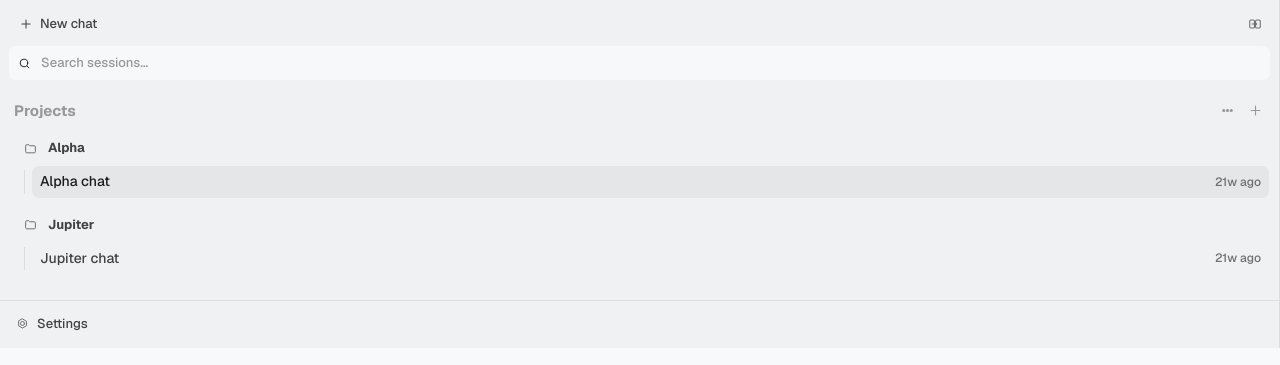
desktop Sidebar workspace grouping › collapses and expands one workspace group without loading a session
Check: the text "Jupiter chat" is shown, box [40, 249, 119, 267]
Click the button "Jupiter": (71, 224) [10, 208, 1269, 242]
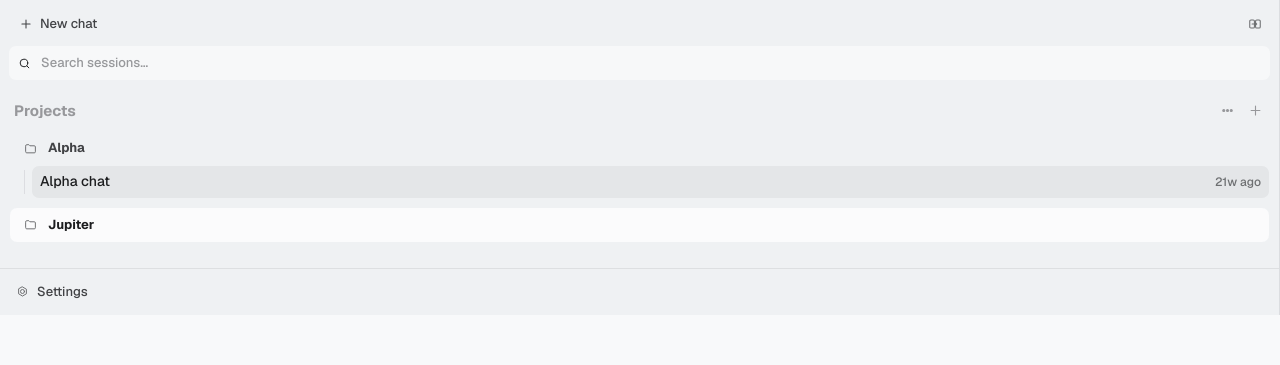
Check: the text "Alpha chat" is shown, box [40, 172, 110, 190]
Check: the button "Jupiter" is collapsed
Check: the button "Jupiter chat" is gone
Click the button "Jupiter": (71, 224) [10, 208, 1269, 242]
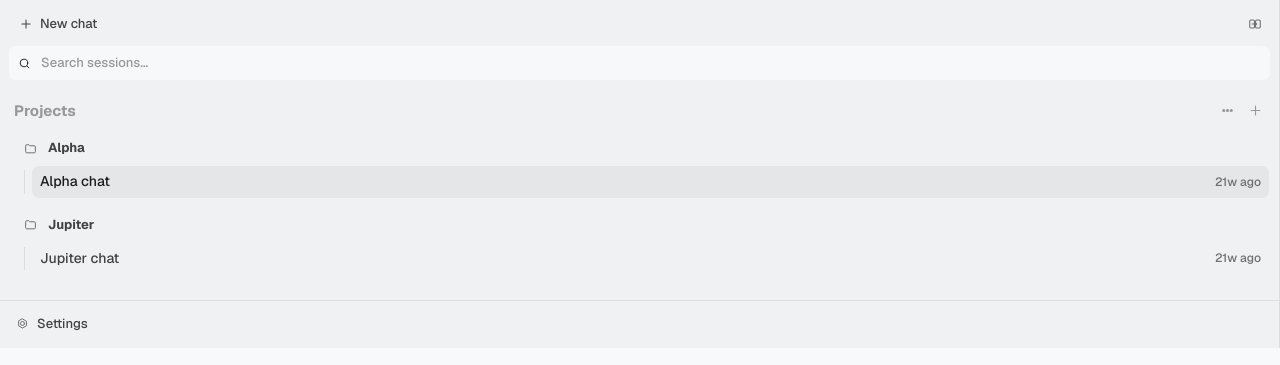
Check: the button "Jupiter" is expanded, box [10, 208, 1269, 242]
Check: the text "Jupiter chat" is shown, box [40, 249, 119, 267]
